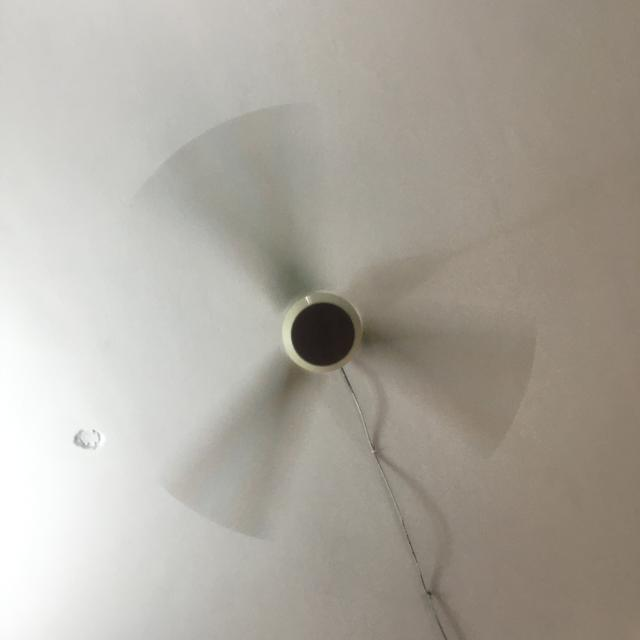on: (125, 92, 550, 552)
